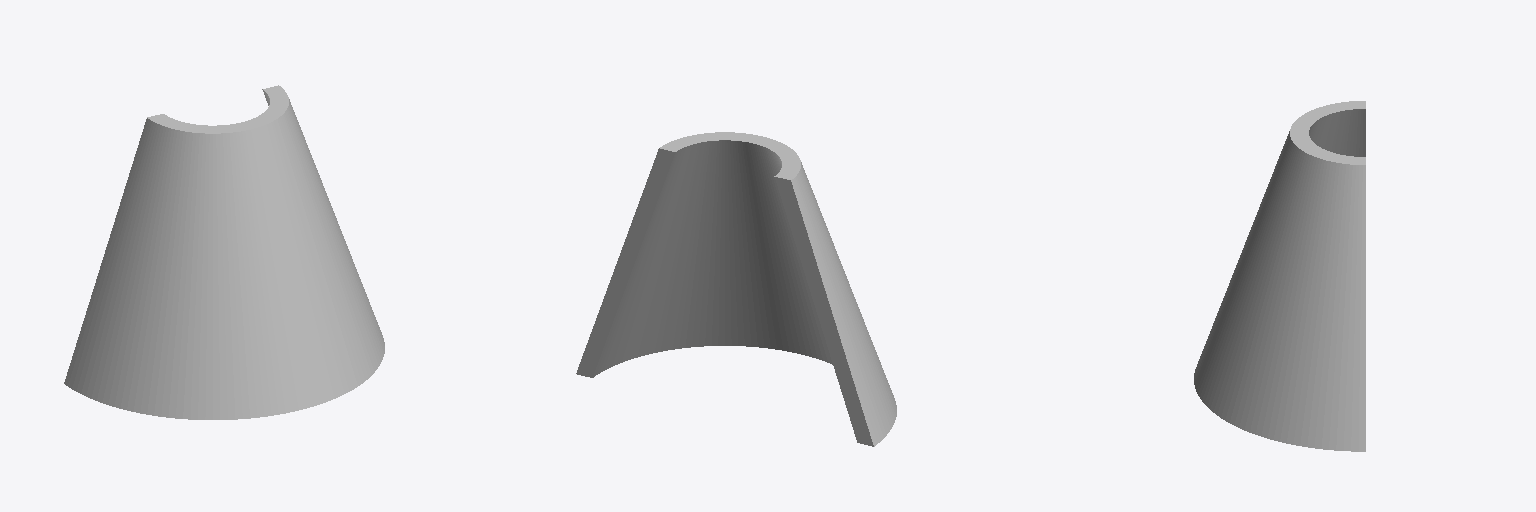
The model's file is Cover.obj.
3 views of the same model, side by side, from view 1: azimuth 30°, elevation 25°; view 2: azimuth 150°, elevation 25°; view 3: azimuth 270°, elevation 25° (orthographic).
Parts seen in each view (by area): view 1: mesh2, mesh1; view 2: mesh0, mesh2, mesh4, mesh5, mesh1; view 3: mesh2, mesh0, mesh1.
Part boxes in pixels (x1,y1,x2,y2): mesh2: (64, 99, 384, 419); mesh1: (147, 85, 288, 133); mesh0: (593, 140, 832, 377); mesh2: (791, 162, 896, 446); mesh4: (576, 148, 675, 377); mesh5: (775, 177, 873, 446); mesh1: (660, 132, 800, 179); mesh2: (1194, 131, 1365, 451); mesh0: (1309, 109, 1365, 156); mesh1: (1290, 101, 1365, 164).
Bounding box in the file's own units: 0.1793 × 0.1414 × 0.0897.